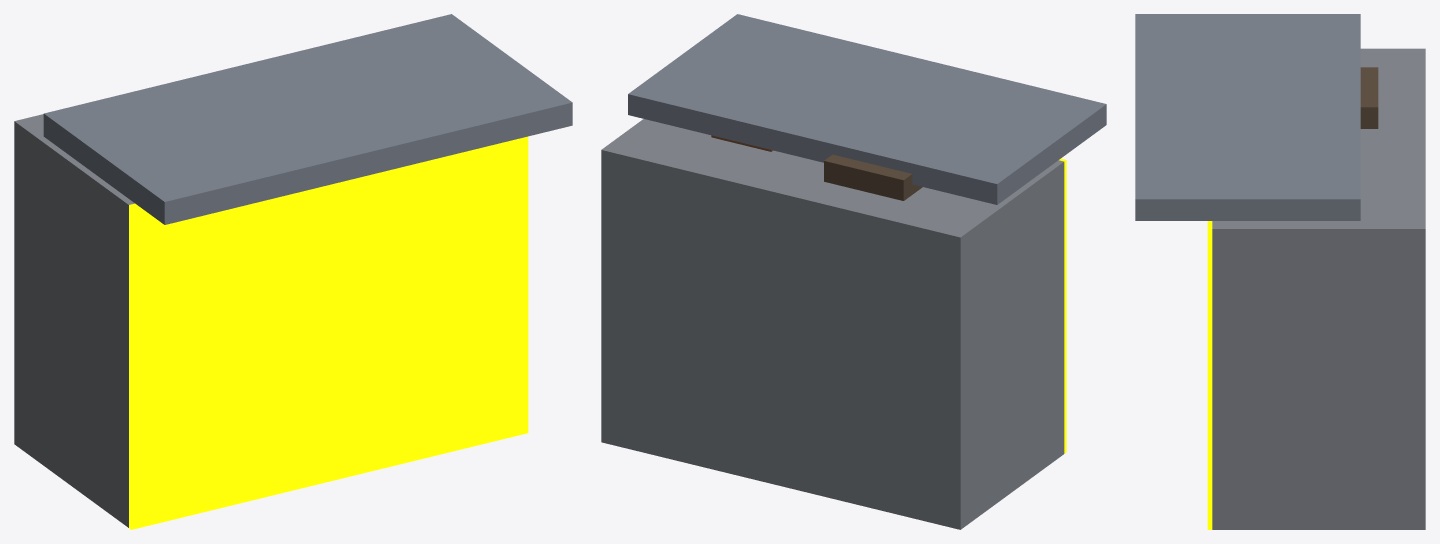
The model's file is PROP_Dumpster_Open.glb.
3 renders of one model, left to right at view 1: azimuth 30°, elevation 25°; view 2: azimuth 150°, elevation 25°; view 3: azimuth 270°, elevation 25°, orthographic. The views are drawn at different scales.
Visible parts, largest first — view 1: PROP_Dumpster_Open; view 2: PROP_Dumpster_Open; view 3: PROP_Dumpster_Open.
Part boxes in pixels (box(x1,y1,x2,y2)): PROP_Dumpster_Open: box(14, 14, 572, 529); PROP_Dumpster_Open: box(601, 14, 1106, 529); PROP_Dumpster_Open: box(1135, 14, 1425, 529).
Bounding box in the file's own units: 1.85 × 1.55 × 1.22.
